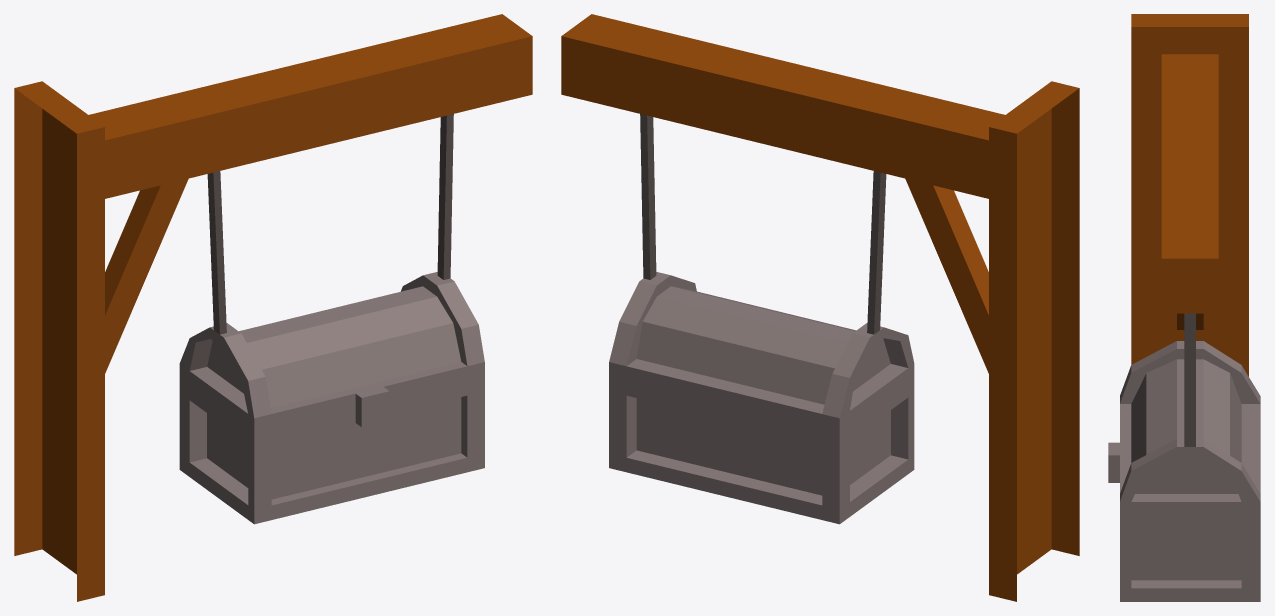
Rendered from model_loc_1049_q.obj.
The picture shows the model from 3 angles, left to right: view 1: azimuth 30°, elevation 25°; view 2: azimuth 150°, elevation 25°; view 3: azimuth 270°, elevation 25°; orthographic projection. The views are drawn at different scales.
Visible parts, largest first — view 1: 1917; view 2: 1917; view 3: 1917.
Part boxes in pixels (x1,y1,x2,y2): 1917: (14, 14, 532, 601); 1917: (561, 14, 1079, 601); 1917: (1108, 14, 1260, 601).
Bounding box in the file's own units: 135 × 128 × 40.
